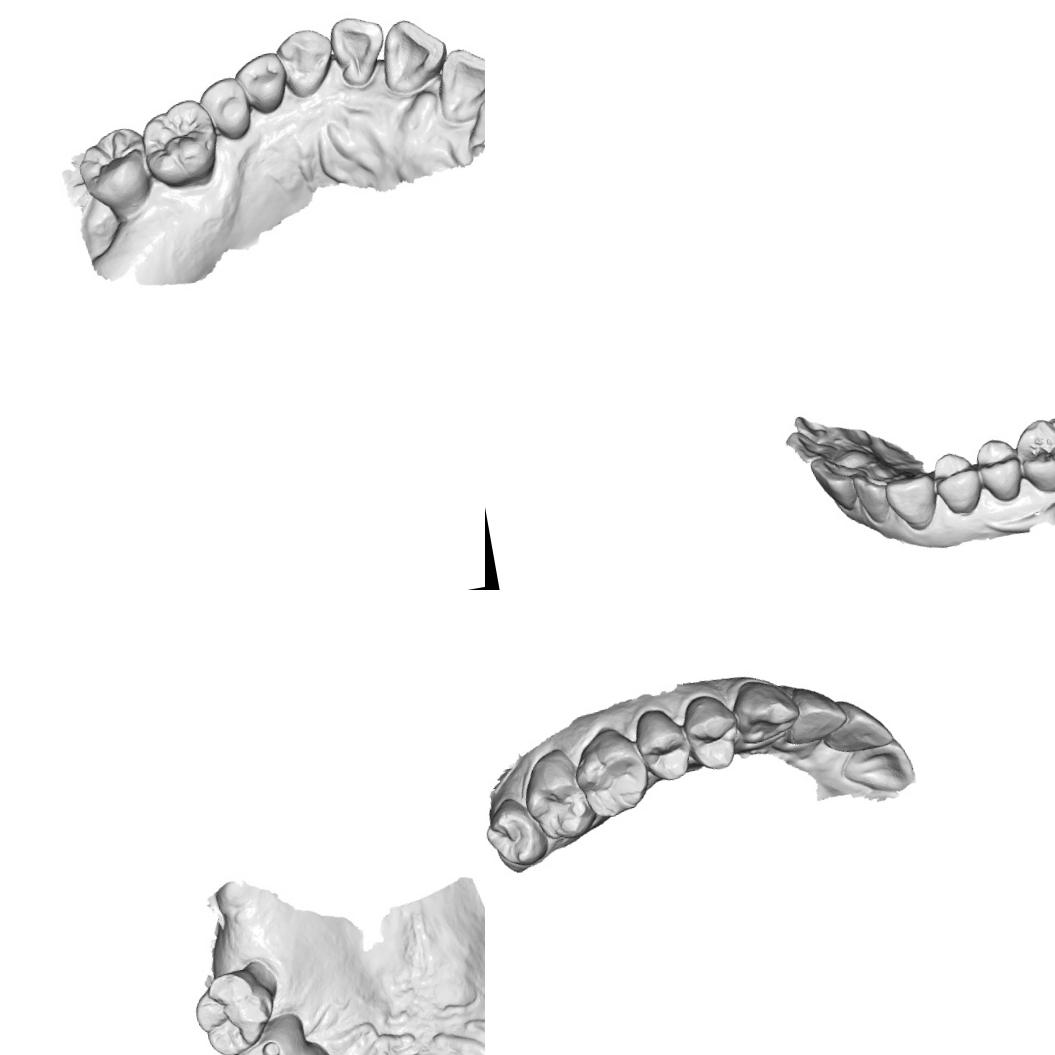canine: (728, 673, 806, 756), (272, 22, 340, 100), (880, 468, 942, 536)
incisor: (374, 11, 453, 97), (782, 680, 856, 756), (327, 9, 392, 91), (836, 736, 914, 800), (428, 38, 485, 125), (820, 694, 891, 762), (808, 448, 874, 517), (848, 467, 895, 529), (783, 424, 838, 466)
molar: (186, 963, 283, 1055), (136, 94, 225, 192), (72, 122, 156, 218), (568, 732, 652, 816), (523, 752, 594, 844), (485, 792, 547, 874), (1008, 409, 1055, 498)
premolar: (676, 688, 744, 774), (633, 705, 694, 786), (194, 71, 256, 145), (926, 446, 988, 520), (232, 48, 294, 120), (971, 432, 1030, 507), (226, 1024, 299, 1055)
